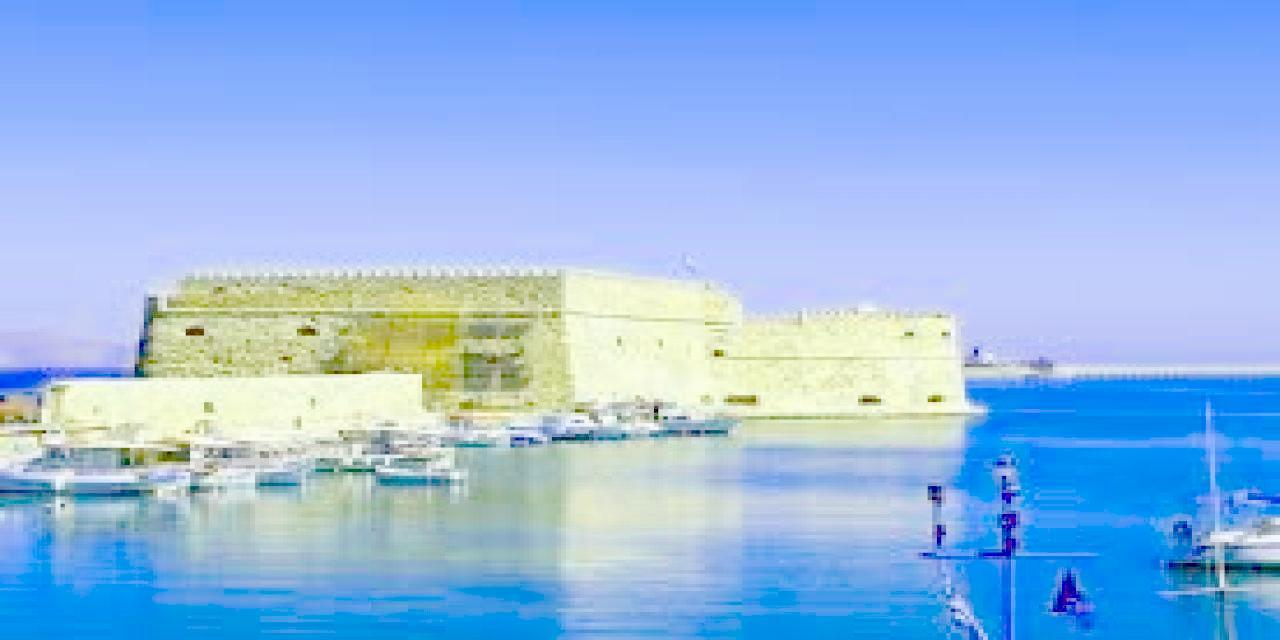Kules: (141, 254, 993, 423)
